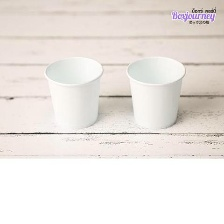paper_cup: (38, 52, 106, 133), (123, 51, 189, 132)
